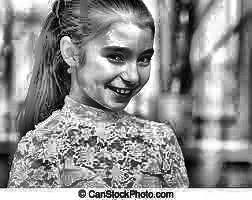happy: (64, 8, 156, 132)
